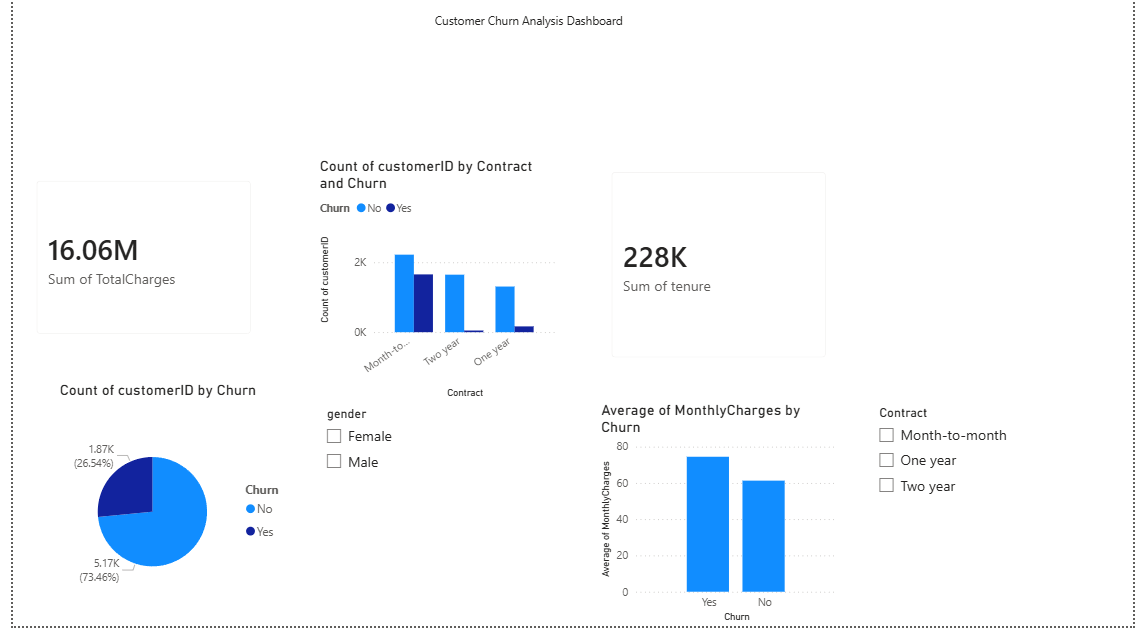

Layout of this report page (visuals, bound fields, positions):
{"tool":"powerbi","page":{"name":"Page 1","canvas":[1280,720],"ordinal":0},"visuals":[{"type":"cardVisual","fields":{"Data":["Sum(WA_Fn-UseC_-Telco-Customer-Chur.tenure)"]},"box":[666.9,183.9,279.9,247],"z":0},{"type":"pieChart","fields":{"Category":["WA_Fn-UseC_-Telco-Customer-Chur.Churn"],"Y":["CountNonNull(WA_Fn-UseC_-Telco-Customer-Chur.customerID)"]},"box":[48,440.5,279.9,279.9],"z":1},{"type":"cardVisual","fields":{"Data":["Sum(WA_Fn-UseC_-Telco-Customer-Chur.TotalCharges)"]},"box":[9.6,194.9,279.9,209.9],"z":2},{"type":"clusteredColumnChart","fields":{"Category":["WA_Fn-UseC_-Telco-Customer-Chur.Contract"],"Y":["CountNonNull(WA_Fn-UseC_-Telco-Customer-Chur.customerID)"],"Series":["WA_Fn-UseC_-Telco-Customer-Chur.Churn"]},"box":[345.8,183.9,279.9,279.9],"z":3},{"type":"clusteredColumnChart","fields":{"Category":["WA_Fn-UseC_-Telco-Customer-Chur.Churn"],"Y":["Avg(WA_Fn-UseC_-Telco-Customer-Chur.MonthlyCharges)"]},"box":[666.9,462.4,279.9,258],"z":4},{"type":"slicer","fields":{"Values":["WA_Fn-UseC_-Telco-Customer-Chur.gender"]},"box":[345.8,463.8,253.9,234.6],"z":5},{"type":"slicer","fields":{"Values":["WA_Fn-UseC_-Telco-Customer-Chur.Contract"]},"box":[977,462.4,286.8,258],"z":6},{"type":"textbox","box":[336.2,0,507.5,96.2],"z":7}]}

Visuals, with their boxes in screenshot pixels (x1, y1, x2, y2), scaled from the page's 1280x720 canvas onto the 1144x639 screenshot:
cardVisual - Sum(WA_Fn-UseC_-Telco-Customer-Chur.tenure): (left=596, top=163, right=846, bottom=382)
pieChart - WA_Fn-UseC_-Telco-Customer-Chur.Churn x CountNonNull(WA_Fn-UseC_-Telco-Customer-Chur.customerID): (left=43, top=391, right=293, bottom=638)
cardVisual - Sum(WA_Fn-UseC_-Telco-Customer-Chur.TotalCharges): (left=9, top=173, right=259, bottom=359)
clusteredColumnChart - WA_Fn-UseC_-Telco-Customer-Chur.Contract x CountNonNull(WA_Fn-UseC_-Telco-Customer-Chur.customerID): (left=309, top=163, right=559, bottom=412)
clusteredColumnChart - WA_Fn-UseC_-Telco-Customer-Chur.Churn x Avg(WA_Fn-UseC_-Telco-Customer-Chur.MonthlyCharges): (left=596, top=410, right=846, bottom=638)
slicer - WA_Fn-UseC_-Telco-Customer-Chur.gender: (left=309, top=412, right=536, bottom=620)
slicer - WA_Fn-UseC_-Telco-Customer-Chur.Contract: (left=873, top=410, right=1130, bottom=638)
textbox: (left=300, top=0, right=754, bottom=85)
